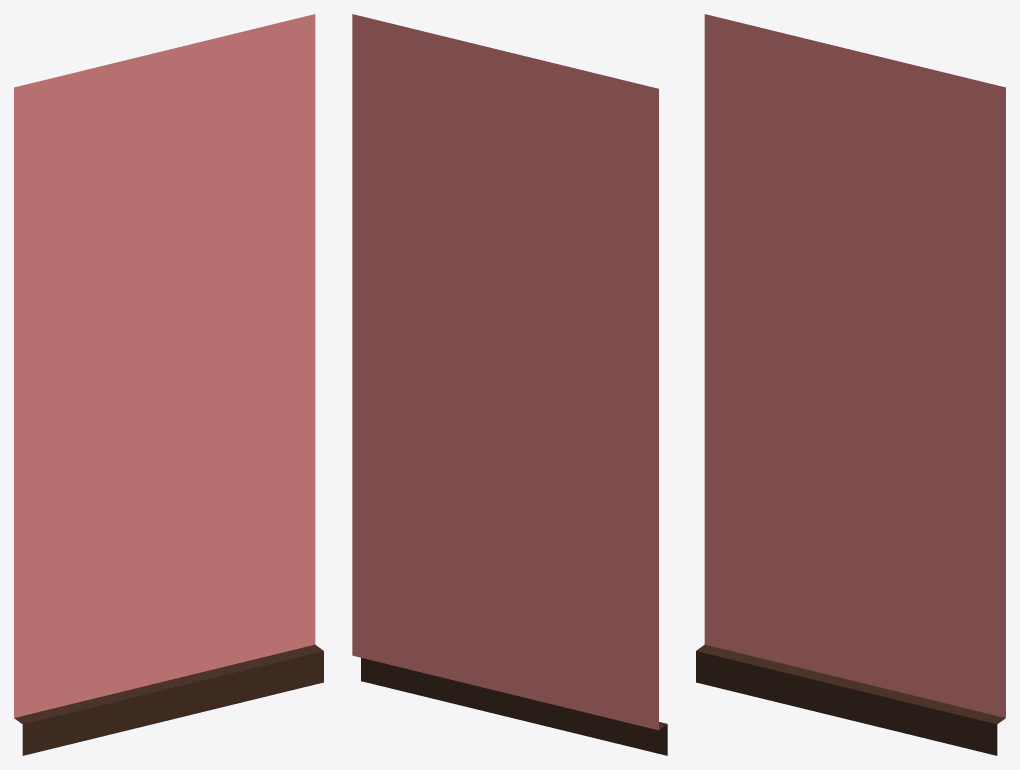
Rendered from SM_Mur_1x1.fbx.
The picture shows the model from 3 angles, left to right: view 1: azimuth 30°, elevation 25°; view 2: azimuth 150°, elevation 25°; view 3: azimuth 330°, elevation 25°; orthographic projection.
Parts seen in each view (by area): view 1: SM_Mur_1x1; view 2: SM_Mur_1x1; view 3: SM_Mur_1x1.
Boxes of the visible parts, left/top/right/bottom form: SM_Mur_1x1: left=14, top=14, right=323, bottom=755; SM_Mur_1x1: left=352, top=14, right=667, bottom=755; SM_Mur_1x1: left=696, top=14, right=1005, bottom=755.
Size of the model in its own units: 1 by 2.1 by 0.05.
